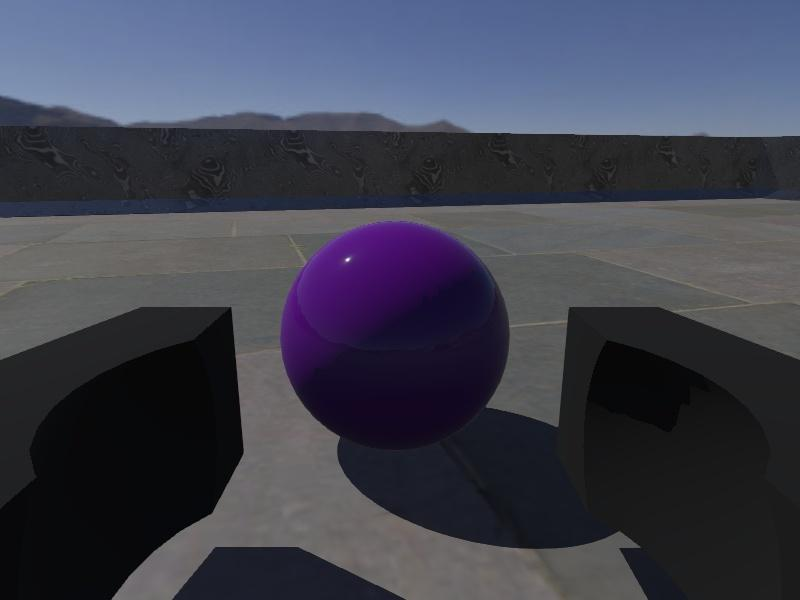violet ball: (278, 219, 512, 452)
